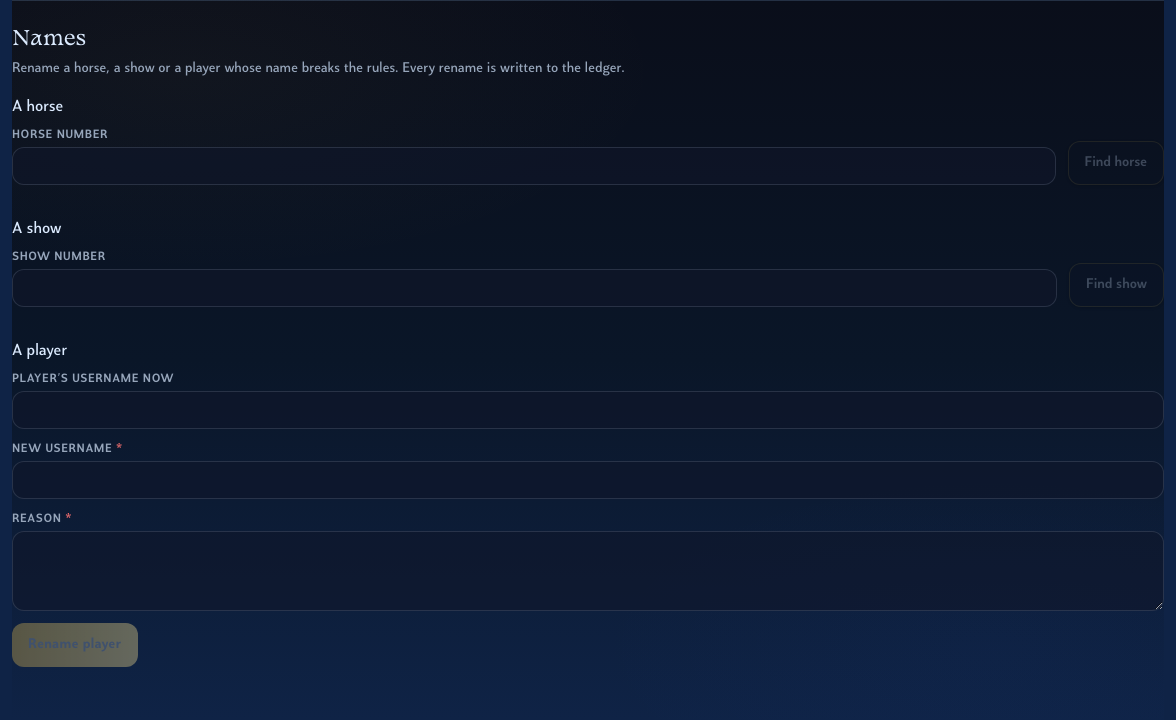
Test: StaffRenames › returns the office to check-in when this browser has lapsed
Type "42" into the field labelled "Horse number".
click(534, 166); type("42")  # box [12, 147, 1056, 185]
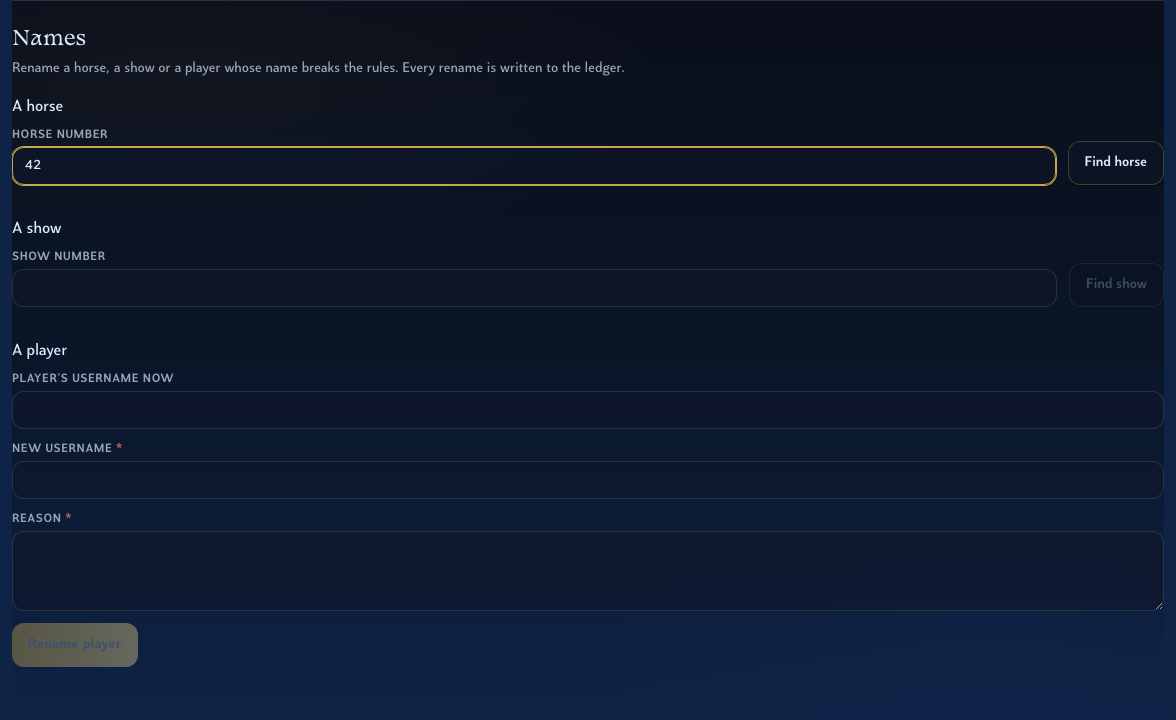
Click the button "Find horse".
click(1116, 163)  # box [1068, 141, 1164, 185]
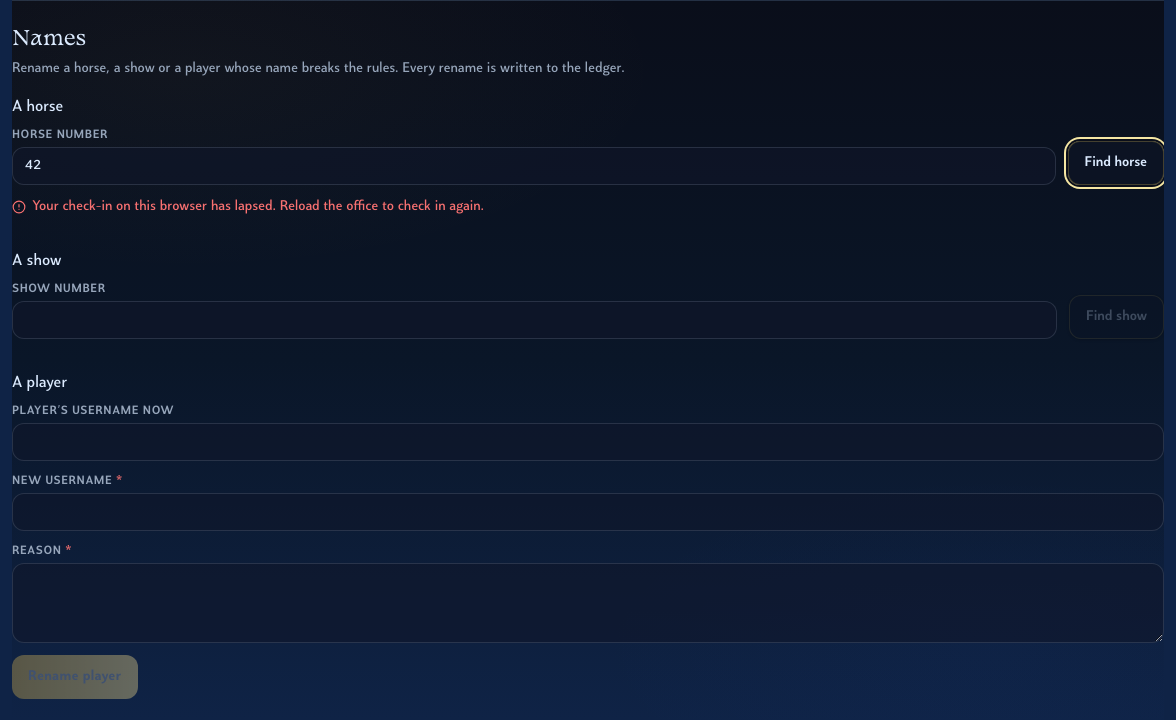
Expected: the text "check-in on this browser has lapsed" is shown, [32, 199, 484, 214]
